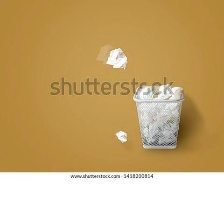book: (138, 80, 183, 144), (103, 42, 130, 71), (112, 126, 129, 146)
